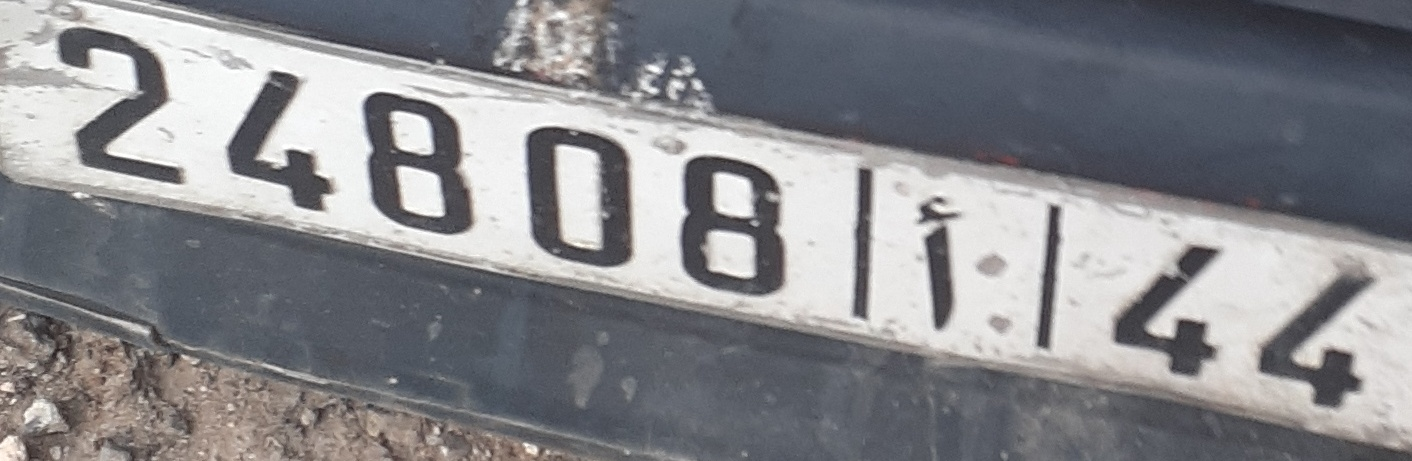0: (520, 121, 639, 276)
2: (53, 25, 188, 193)
4: (1252, 265, 1382, 421), (223, 68, 338, 216), (1109, 241, 1227, 385)
8: (356, 85, 480, 240), (676, 146, 793, 300)
a: (907, 185, 967, 333)
